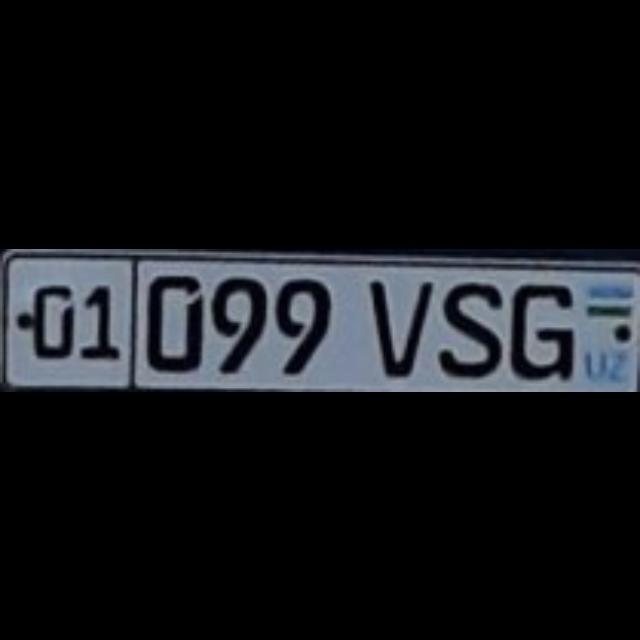0: (141, 269, 199, 367), (27, 278, 67, 356)
1: (76, 278, 116, 356)
9: (270, 272, 328, 370), (208, 272, 264, 370)
G: (505, 278, 569, 374)
S: (434, 276, 496, 374)
V: (364, 276, 432, 376)
